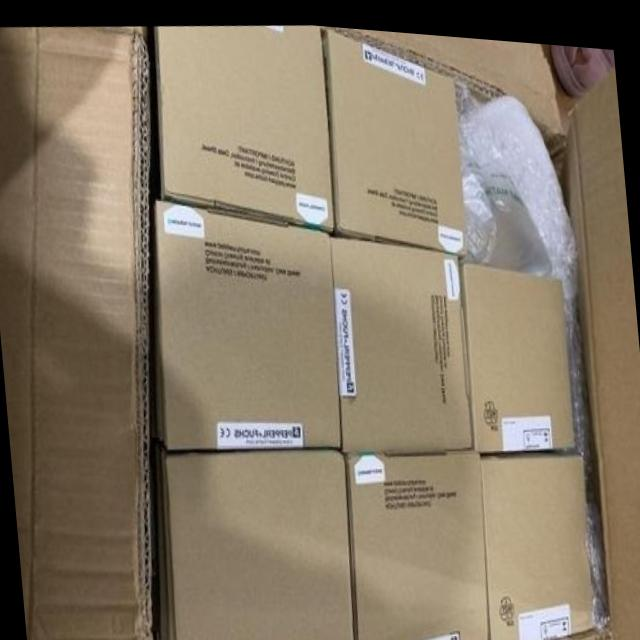box: (153, 195, 339, 450), (158, 442, 355, 640), (157, 20, 333, 225), (324, 23, 467, 249), (331, 230, 472, 444), (347, 444, 489, 640), (478, 447, 594, 640), (462, 251, 574, 442)
